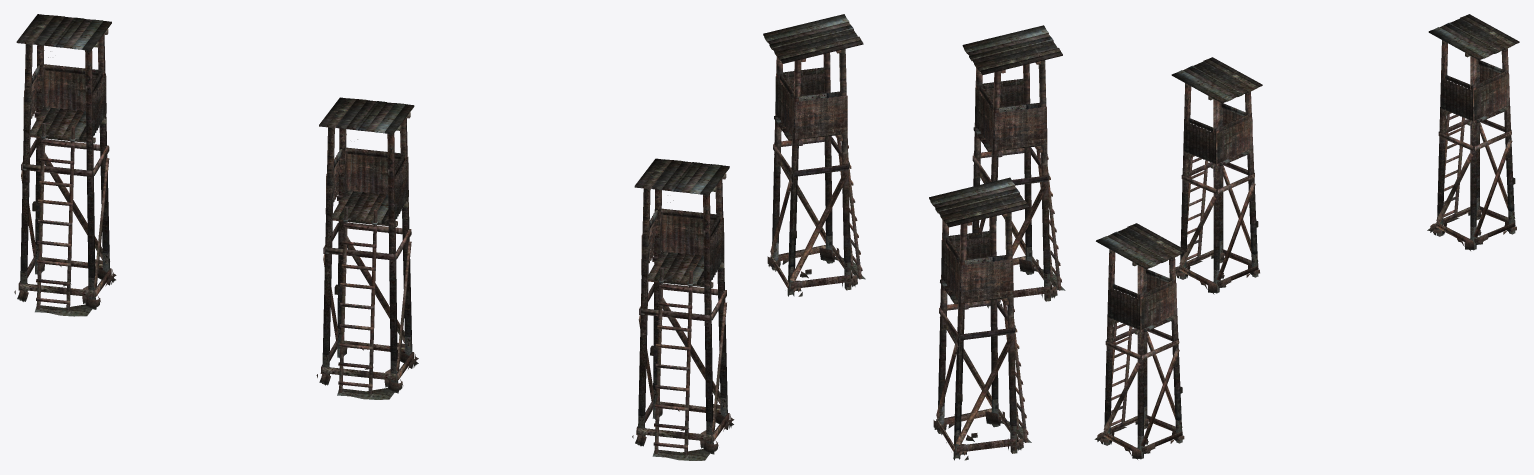
Rendered from strazarnica.fbx.
3 views of the same model, side by side, from view 1: azimuth 30°, elevation 25°; view 2: azimuth 150°, elevation 25°; view 3: azimuth 270°, elevation 25° (orthographic). The views are drawn at different scales.
Parts seen in each view (by area): view 1: Watchtower, Watchtower.3, Watchtower.2; view 2: Watchtower.2, Watchtower, Watchtower.3; view 3: Watchtower.2, Watchtower.3, Watchtower.
Part boxes in pixels (x1,y1,x2,y2): Watchtower: (14,14,116,316); Watchtower.3: (316,97,418,399); Watchtower.2: (632,158,734,460); Watchtower.2: (763,14,865,296); Watchtower: (929,177,1031,460); Watchtower.3: (962,25,1065,308); Watchtower.2: (1094,223,1186,459); Watchtower.3: (1171,57,1262,294); Watchtower: (1427,14,1519,250).
Bounding box in the file's own units: 801 × 542 × 777.
1 material, 1 textured.
